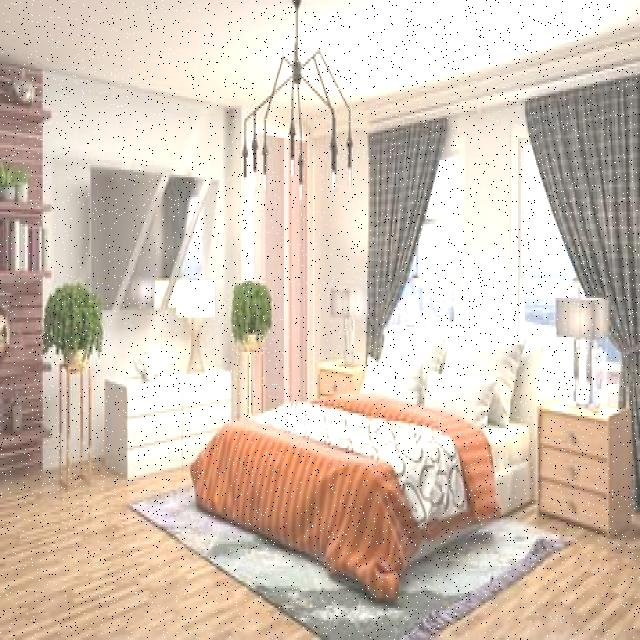bed: (189, 326, 543, 541)
